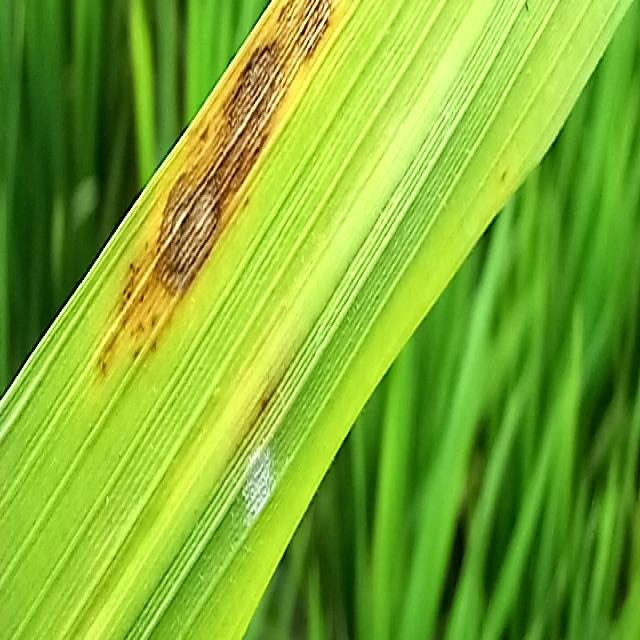LEAF BLAST: (94, 0, 349, 379)
